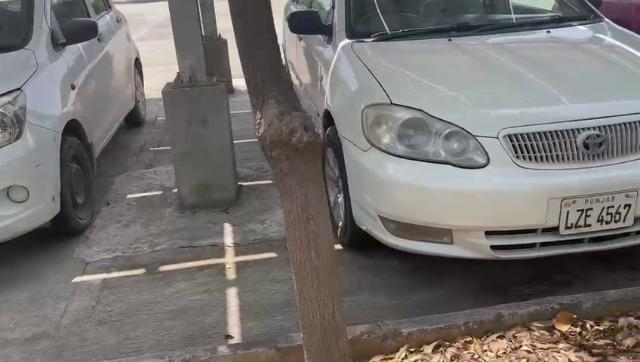plate: (561, 191, 639, 232)
